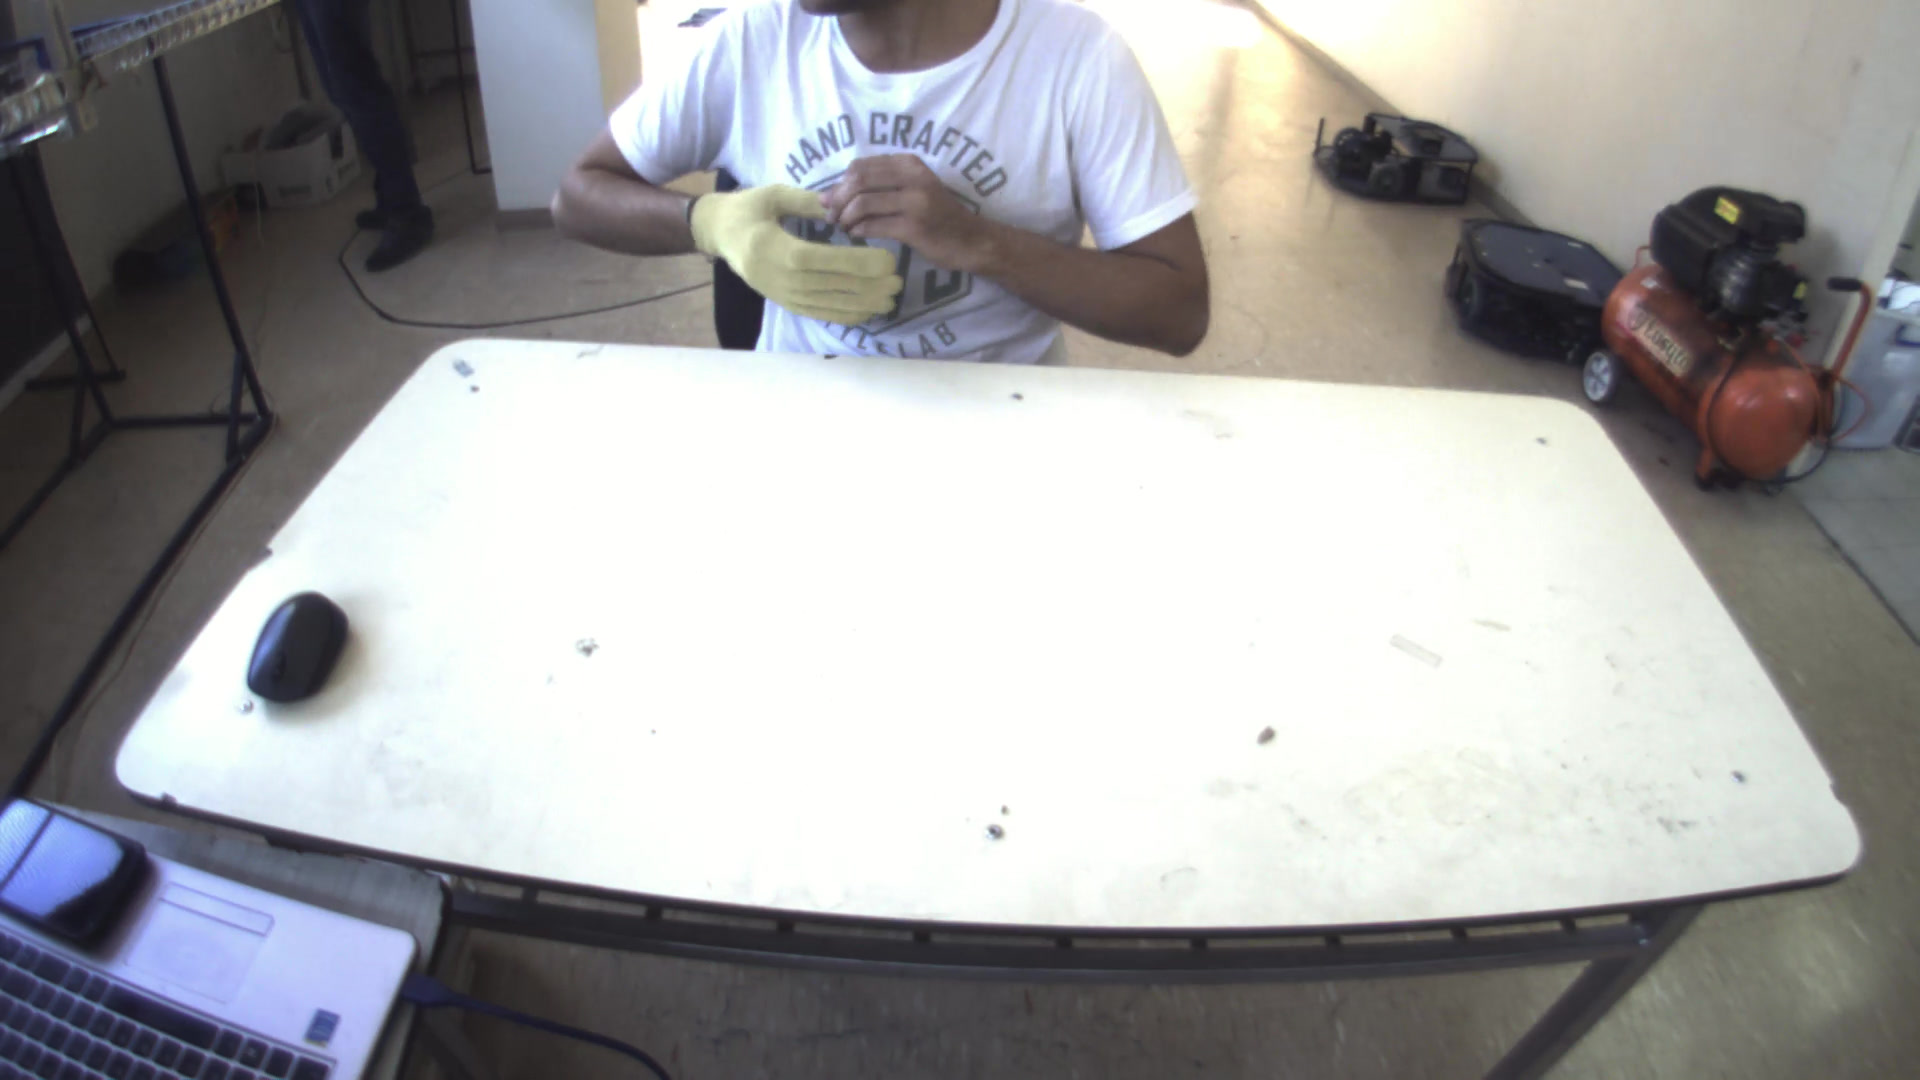hand: (663, 177, 909, 328), (831, 153, 975, 258)
